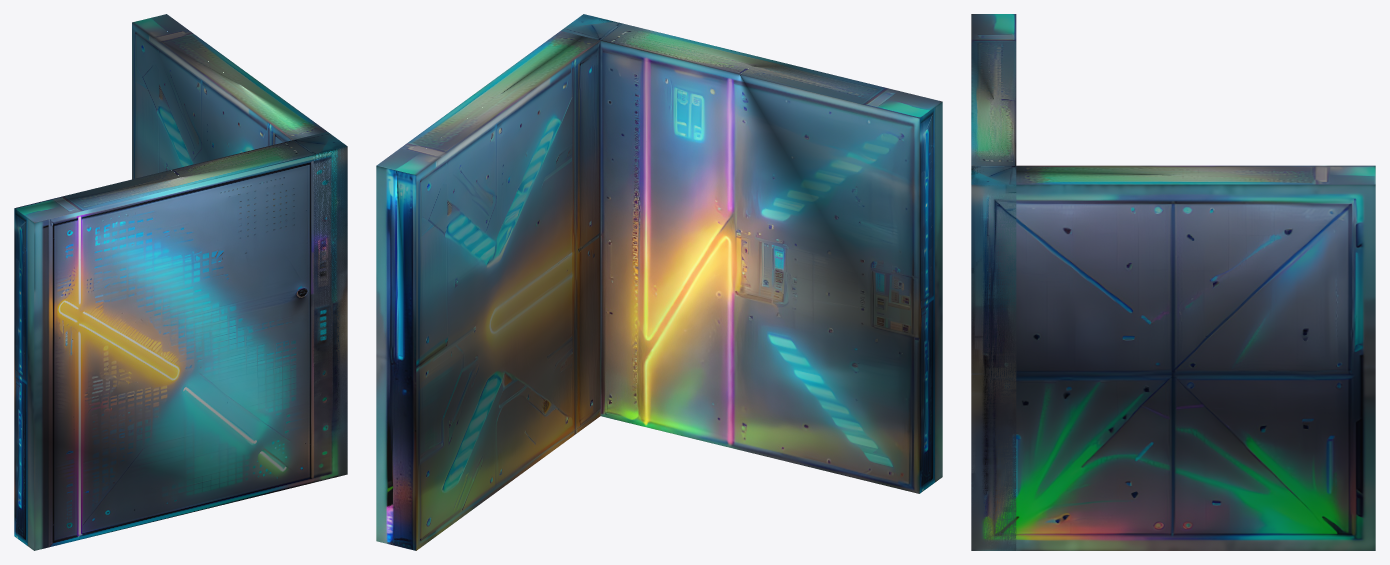
Rendered from residentialBasicWall2.glb.
The picture shows the model from 3 angles, left to right: view 1: azimuth 30°, elevation 25°; view 2: azimuth 150°, elevation 25°; view 3: azimuth 270°, elevation 25°; orthographic projection. The views are drawn at different scales.
Visible parts, largest first — view 1: residentialBasicWall2; view 2: residentialBasicWall2; view 3: residentialBasicWall2.
Boxes of the visible parts, box(x1,y1,x2,y2) form: residentialBasicWall2: box(14, 14, 347, 550); residentialBasicWall2: box(376, 14, 942, 550); residentialBasicWall2: box(971, 14, 1375, 550).
Size of the model in its own units: 1 by 1 by 1.
Materials: 1 (1 with a texture image).
